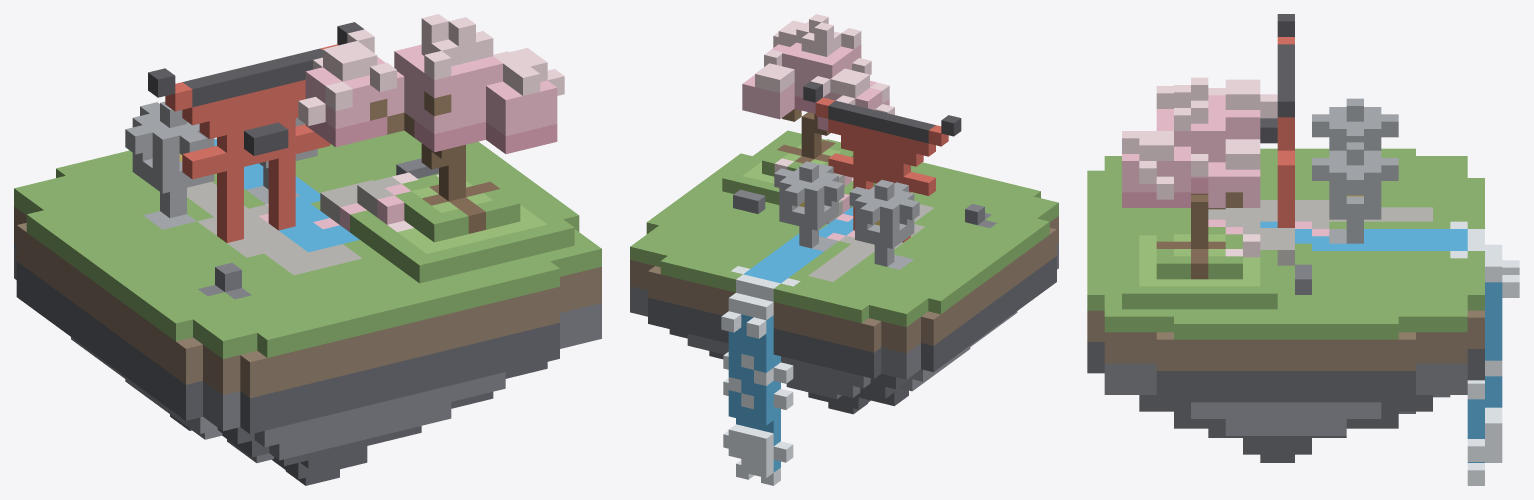
Rendered from voxel_island.glb.
The picture shows the model from 3 angles, left to right: view 1: azimuth 30°, elevation 25°; view 2: azimuth 150°, elevation 25°; view 3: azimuth 270°, elevation 25°; orthographic projection. The views are drawn at different scales.
Visible parts, largest first — view 1: voxel_floating_island; view 2: voxel_floating_island; view 3: voxel_floating_island.
Part boxes in pixels (left/top/right/bottom): voxel_floating_island: left=14, top=14, right=601, bottom=485; voxel_floating_island: left=630, top=14, right=1058, bottom=485; voxel_floating_island: left=1087, top=14, right=1519, bottom=485.
Bounding box in the file's own units: 4.8 × 5.4 × 5.
